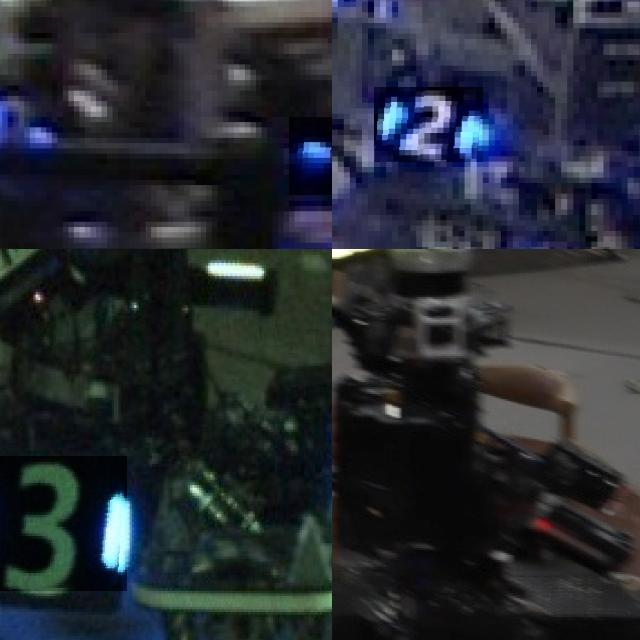B2: (374, 87, 483, 162), (289, 116, 332, 195)
B3: (0, 456, 127, 591)
